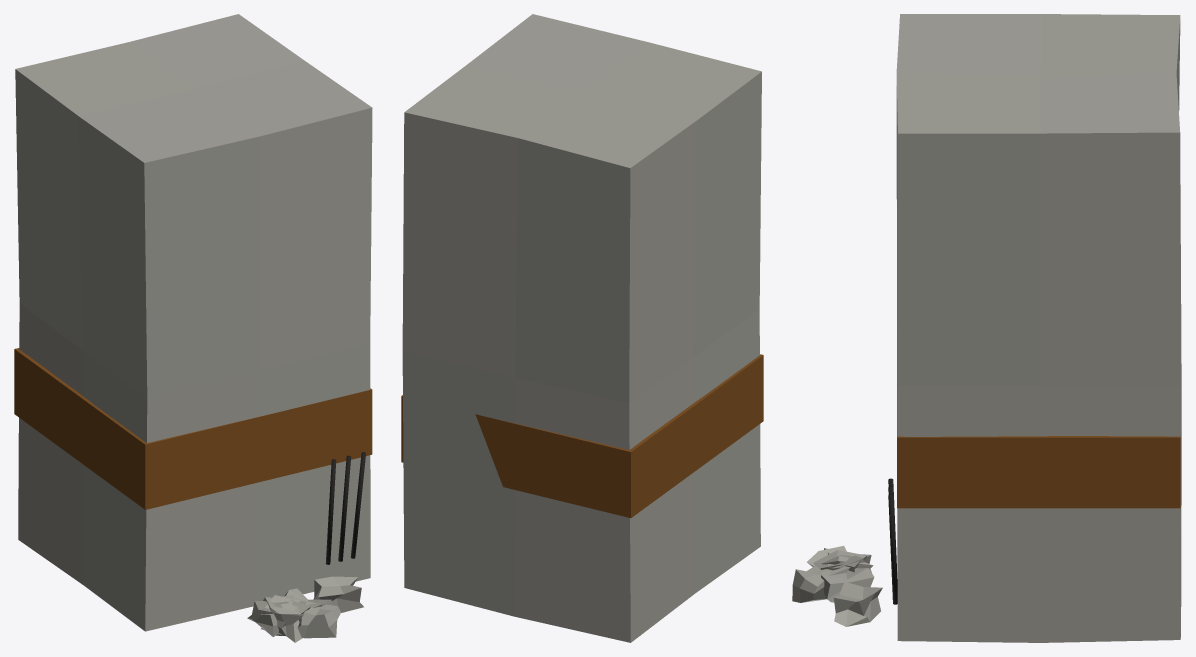
The model's file is cover_pillar.glb.
The picture shows the model from 3 angles, left to right: view 1: azimuth 30°, elevation 25°; view 2: azimuth 150°, elevation 25°; view 3: azimuth 270°, elevation 25°; orthographic projection. The views are drawn at different scales.
Parts seen in each view (by area): view 1: column, band, fallen_1, fallen_0, fallen_2, fallen_3, rebar_0, rebar_1, rebar_2, fallen_5; view 2: column, band; view 3: column, band, fallen_1, fallen_0, fallen_4, rebar_0.
Boxes of the visible parts, x1,y1,x2,y2 form: column: [15, 14, 372, 631]; band: [14, 348, 372, 509]; fallen_1: [313, 576, 363, 612]; fallen_0: [294, 597, 340, 638]; fallen_2: [257, 595, 306, 642]; fallen_3: [247, 596, 299, 636]; rebar_0: [350, 452, 365, 558]; rebar_1: [338, 455, 351, 561]; rebar_2: [325, 459, 336, 564]; fallen_5: [263, 595, 310, 635]; column: [402, 14, 761, 642]; band: [401, 354, 763, 517]; column: [896, 14, 1181, 642]; band: [897, 334, 1180, 508]; fallen_1: [833, 581, 882, 626]; fallen_0: [792, 564, 850, 602]; fallen_4: [821, 568, 874, 602]; rebar_0: [888, 494, 897, 604].
Bounding box in the file's own units: 1.83 × 3.64 × 2.5.
